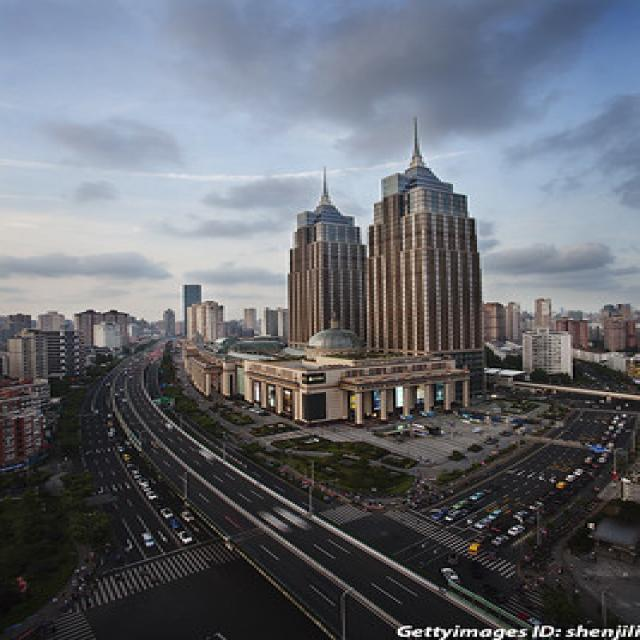Normal_building: (369, 159, 489, 361), (280, 195, 372, 355)
